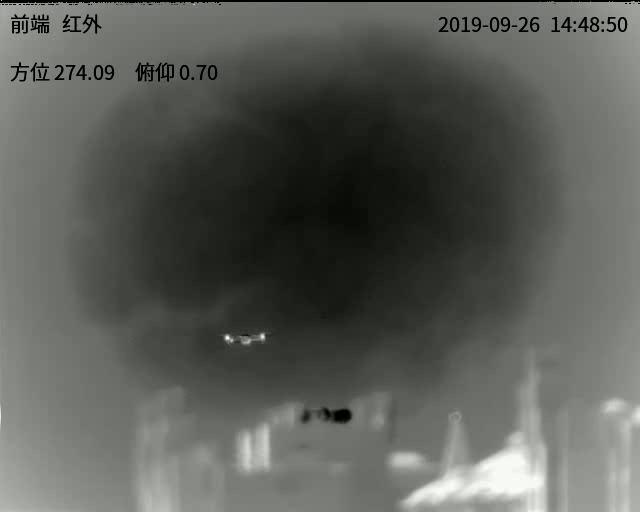DRONE: (223, 329, 267, 346)
